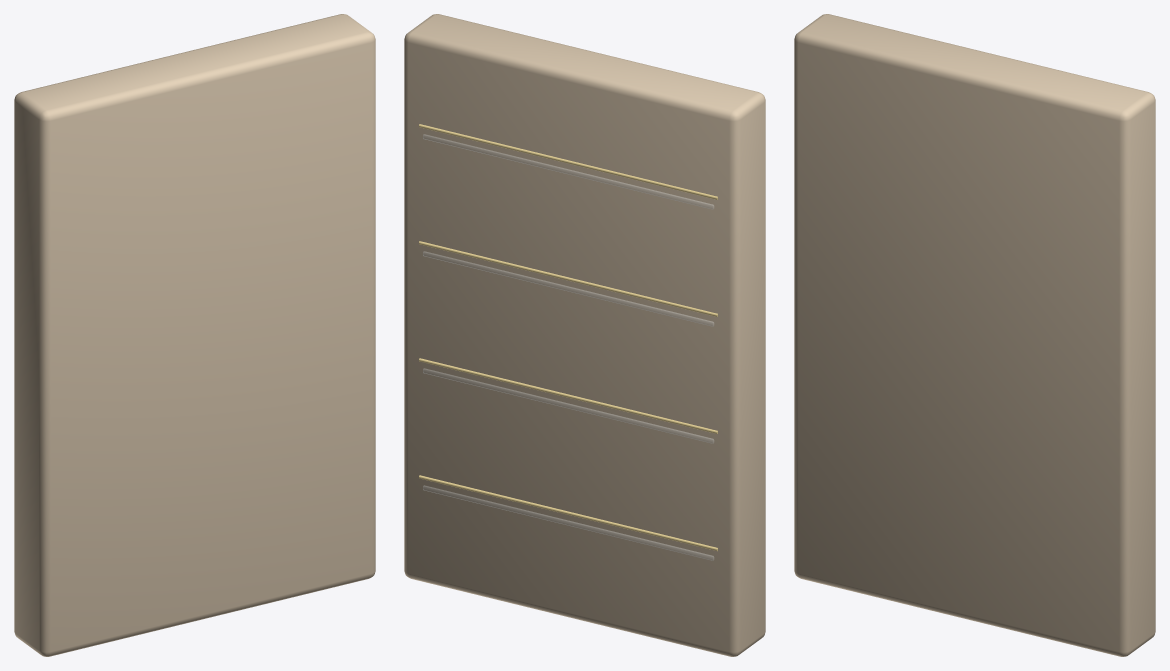
Rendered from floating-lacquer-display.glb.
The picture shows the model from 3 angles, left to right: view 1: azimuth 30°, elevation 25°; view 2: azimuth 150°, elevation 25°; view 3: azimuth 330°, elevation 25°; orthographic projection.
Visible parts, largest first — view 1: display_WallNiche; view 2: display_WallNiche, display_GlassShelf_2, display_GlassShelf_3, display_GlassShelf_1, display_GlassShelf_0, display_BrassRail_2, display_BrassRail_3, display_BrassRail_1, display_BrassRail_0; view 3: display_WallNiche.
Boxes of the visible parts, left/top/right/bottom form: display_WallNiche: left=14, top=14, right=375, bottom=656; display_WallNiche: left=404, top=14, right=765, bottom=656; display_GlassShelf_2: left=423, top=251, right=713, bottom=326; display_GlassShelf_3: left=423, top=134, right=713, bottom=209; display_GlassShelf_1: left=423, top=368, right=713, bottom=443; display_GlassShelf_0: left=423, top=485, right=713, bottom=560; display_BrassRail_2: left=419, top=241, right=717, bottom=316; display_BrassRail_3: left=419, top=124, right=717, bottom=199; display_BrassRail_1: left=419, top=358, right=717, bottom=433; display_BrassRail_0: left=419, top=475, right=717, bottom=551; display_WallNiche: left=794, top=14, right=1155, bottom=656.
Bounding box in the file's own units: 0.9 × 1.4 × 0.155.
